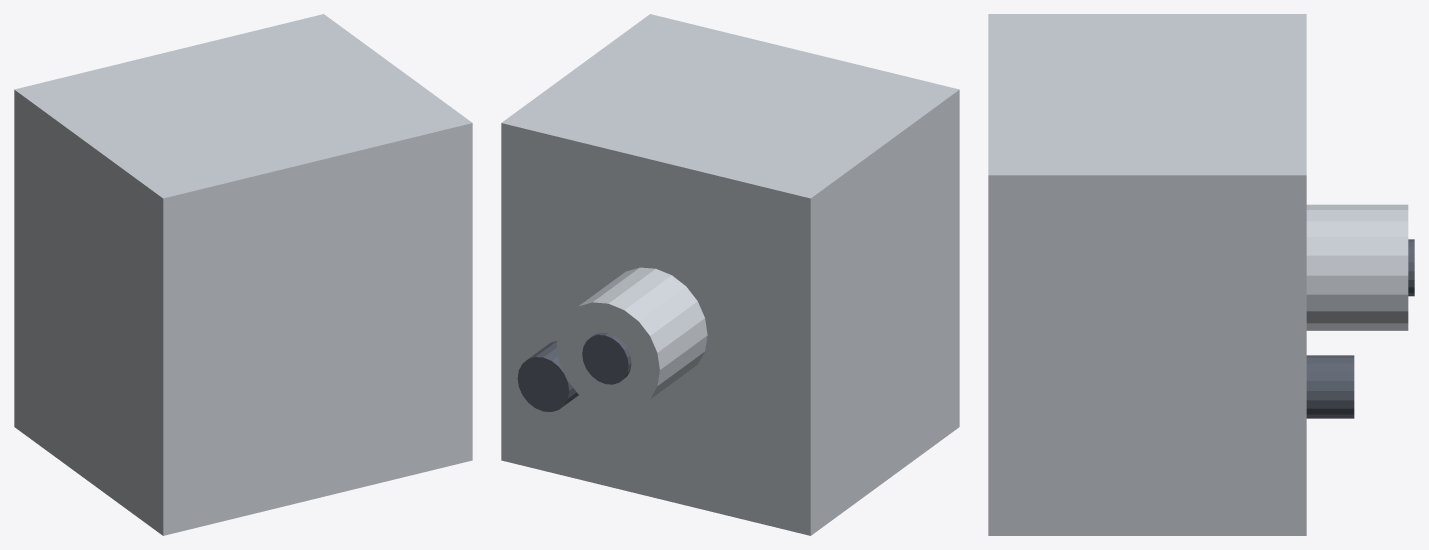
Rendered from chip-led-illuminator-v1.glb.
3 renders of one model, left to right at view 1: azimuth 30°, elevation 25°; view 2: azimuth 150°, elevation 25°; view 3: azimuth 270°, elevation 25°, orthographic. The views are drawn at different scales.
Parts seen in each view (by area): view 1: blue illuminator enclosure; view 2: blue illuminator enclosure, silver optical fitting, black intensity knob, black fitting aperture; view 3: blue illuminator enclosure, silver optical fitting, black intensity knob.
Boxes of the visible parts, x1,y1,x2,y2 form: blue illuminator enclosure: (14, 14, 472, 535); blue illuminator enclosure: (501, 14, 959, 535); silver optical fitting: (557, 267, 707, 412); black intensity knob: (517, 341, 578, 411); black fitting aperture: (582, 332, 631, 384); blue illuminator enclosure: (988, 14, 1306, 535); silver optical fitting: (1306, 204, 1408, 330); black intensity knob: (1306, 355, 1354, 418).
Size of the model in its own units: 0.12 by 0.125 by 0.134.
